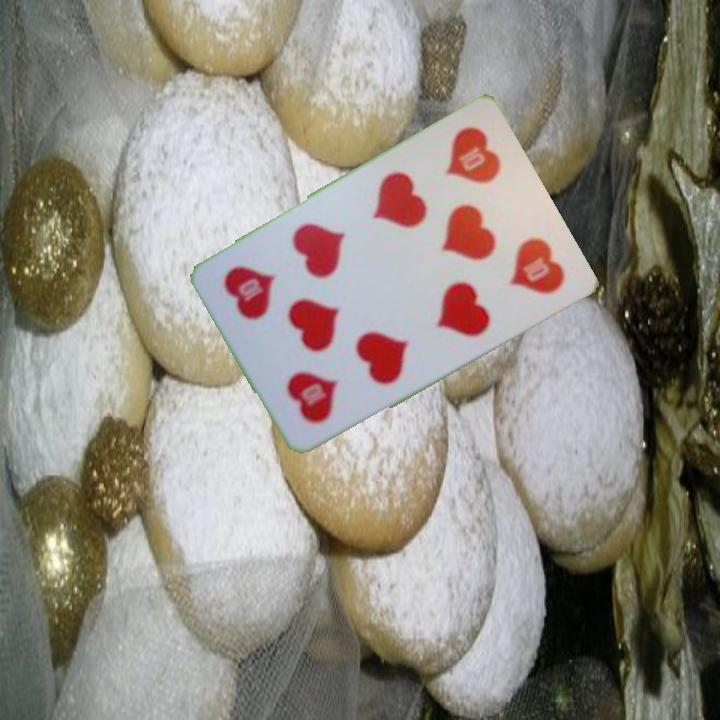h_10.png: (252, 313, 374, 440), (410, 114, 532, 241)
